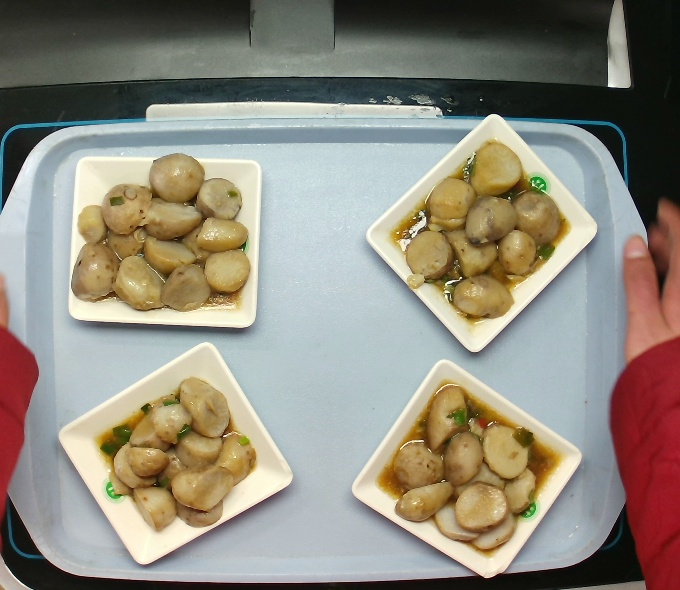wcq-YuTou: (382, 135, 577, 337), (370, 374, 567, 567), (66, 150, 254, 315), (91, 372, 261, 537)
